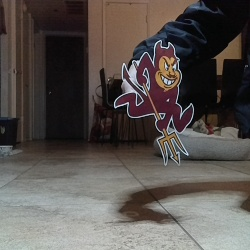sparky: (113, 39, 195, 166)
